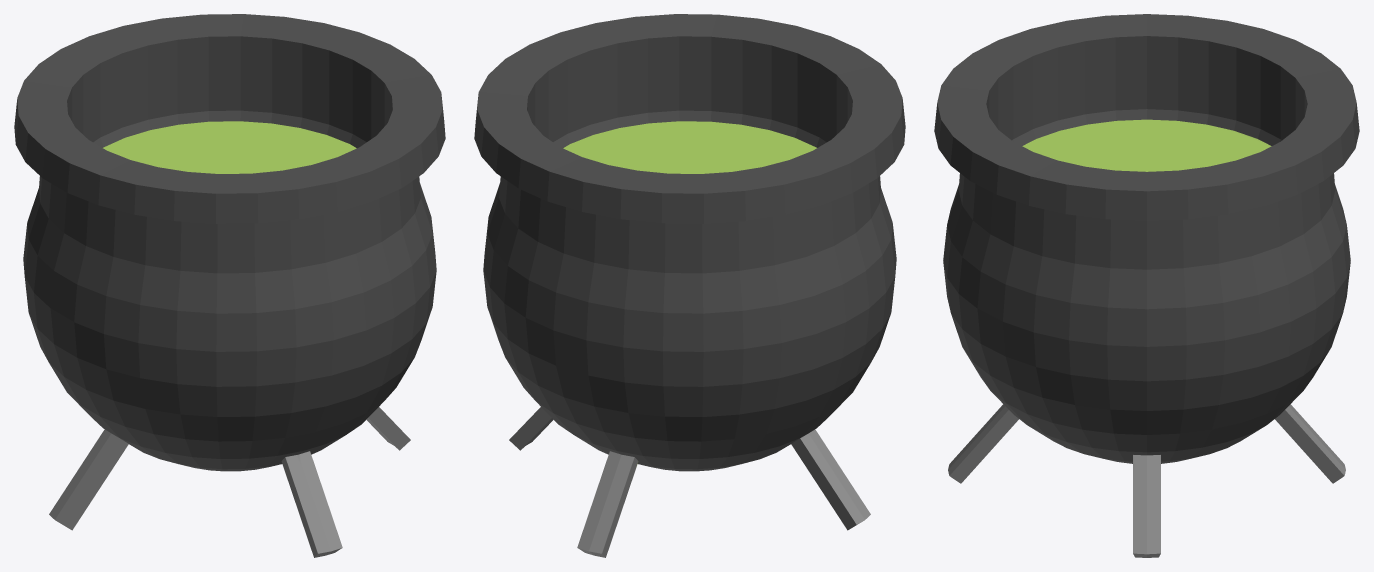
File: cauldron.gltf
3 views of the same model, side by side, from view 1: azimuth 30°, elevation 25°; view 2: azimuth 150°, elevation 25°; view 3: azimuth 270°, elevation 25° (orthographic).
Visible parts, largest first — view 1: Sphere; view 2: Sphere; view 3: Sphere.
Boxes of the visible parts, x1=… form: Sphere: x1=14, y1=14, x2=445, y2=557; Sphere: x1=474, y1=14, x2=905, y2=557; Sphere: x1=934, y1=14, x2=1359, y2=557.
Size of the model in its own units: 2.09 by 2.04 by 2.09.
Materials: 1 (1 with a texture image).
